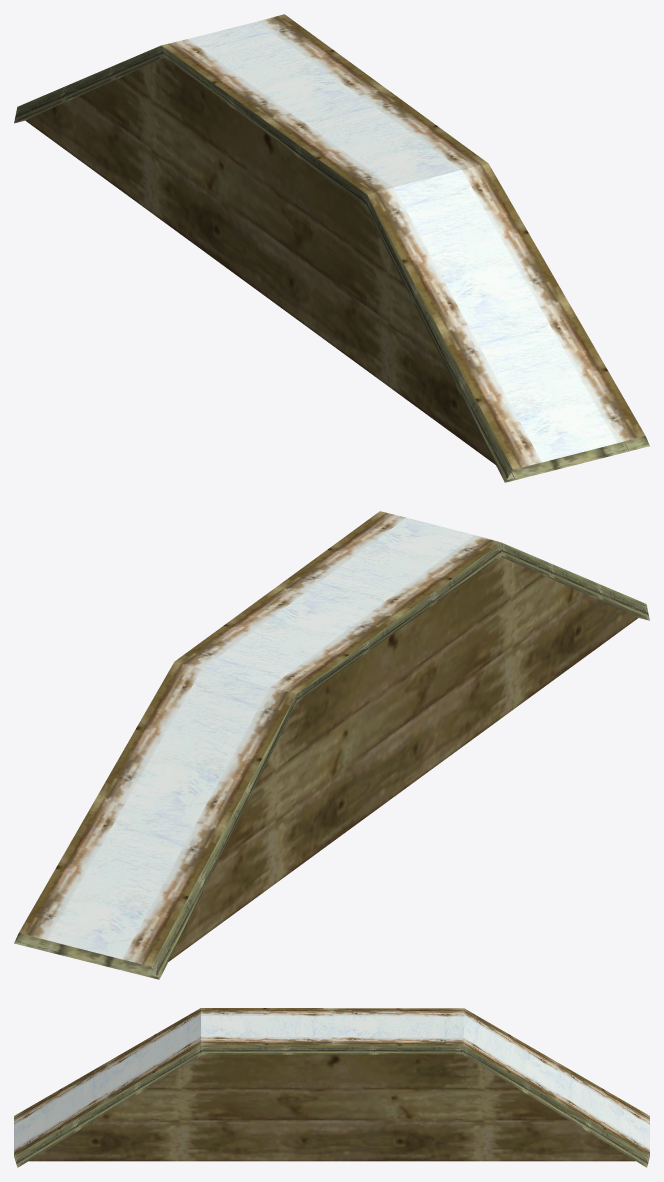
Rendered from C1SMTRAINRAMP.obj.
The picture shows the model from 3 angles, top to bottom: view 1: azimuth 30°, elevation 25°; view 2: azimuth 150°, elevation 25°; view 3: azimuth 270°, elevation 25°; orthographic projection. The views are drawn at different scales.
Parts seen in each view (by area): view 1: Node 0; view 2: Node 0; view 3: Node 0.
Boxes of the visible parts, x1,y1,x2,y2 form: Node 0: [14, 14, 649, 482]; Node 0: [14, 511, 649, 979]; Node 0: [14, 1008, 649, 1167].
Size of the model in its own units: 1.8 by 2.17 by 10.62.
Materials: 3 (3 with a texture image).
